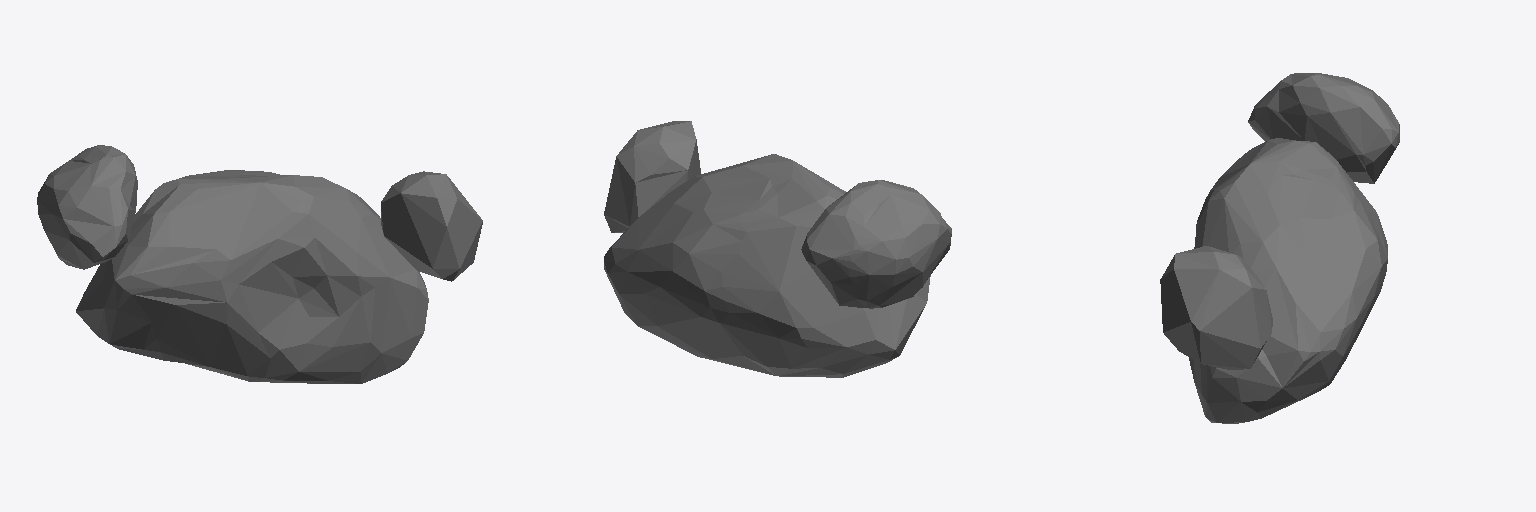
File: head.obj
3 renders of one model, left to right at view 1: azimuth 30°, elevation 25°; view 2: azimuth 150°, elevation 25°; view 3: azimuth 270°, elevation 25°, orthographic.
Parts seen in each view (by area): view 1: Stone1, Stone5, Stone4; view 2: Stone1, Stone5, Stone4; view 3: Stone1, Stone4, Stone5.
Part boxes in pixels (x1,y1,x2,y2): Stone1: (76,170,428,383); Stone5: (37,145,137,269); Stone4: (381,171,482,281); Stone1: (604,154,930,377); Stone5: (801,180,951,308); Stone4: (604,121,700,232); Stone1: (1189,138,1387,423); Stone4: (1160,246,1272,369); Stone5: (1248,73,1399,183).
Size of the model in its own units: 8.2 by 4.97 by 4.55.